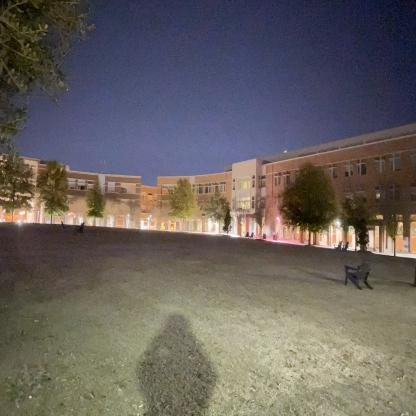eb3: (157, 120, 414, 250)
